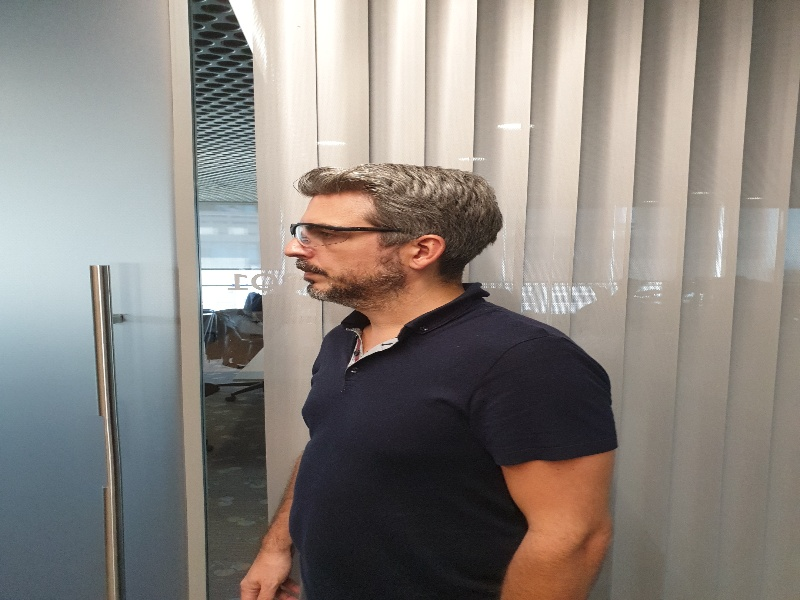Gozluk: (289, 224, 399, 245)
